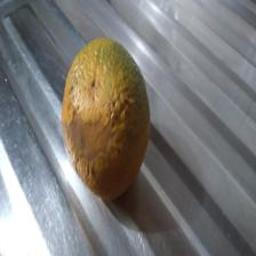Orange Semifresh: (49, 40, 172, 211)
